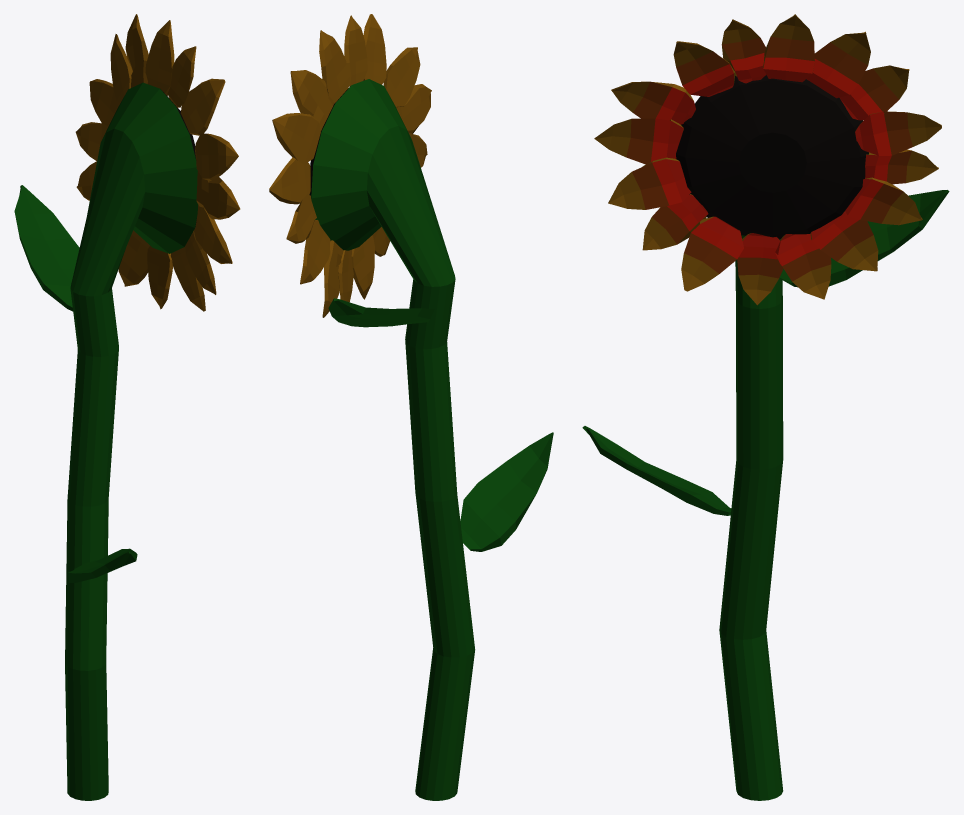
The model's file is SunFlower.obj.
3 renders of one model, left to right at view 1: azimuth 30°, elevation 25°; view 2: azimuth 150°, elevation 25°; view 3: azimuth 270°, elevation 25°, orthographic. The views are drawn at different scales.
Parts seen in each view (by area): view 1: Cylinder.002_Cylinder; view 2: Cylinder.002_Cylinder; view 3: Cylinder.002_Cylinder.
Boxes of the visible parts, <box> form: Cylinder.002_Cylinder: <box>14,14,240,800</box>; Cylinder.002_Cylinder: <box>269,14,553,800</box>; Cylinder.002_Cylinder: <box>582,14,949,800</box>.
Size of the model in its own units: 0.42 by 1.98 by 0.7954.
